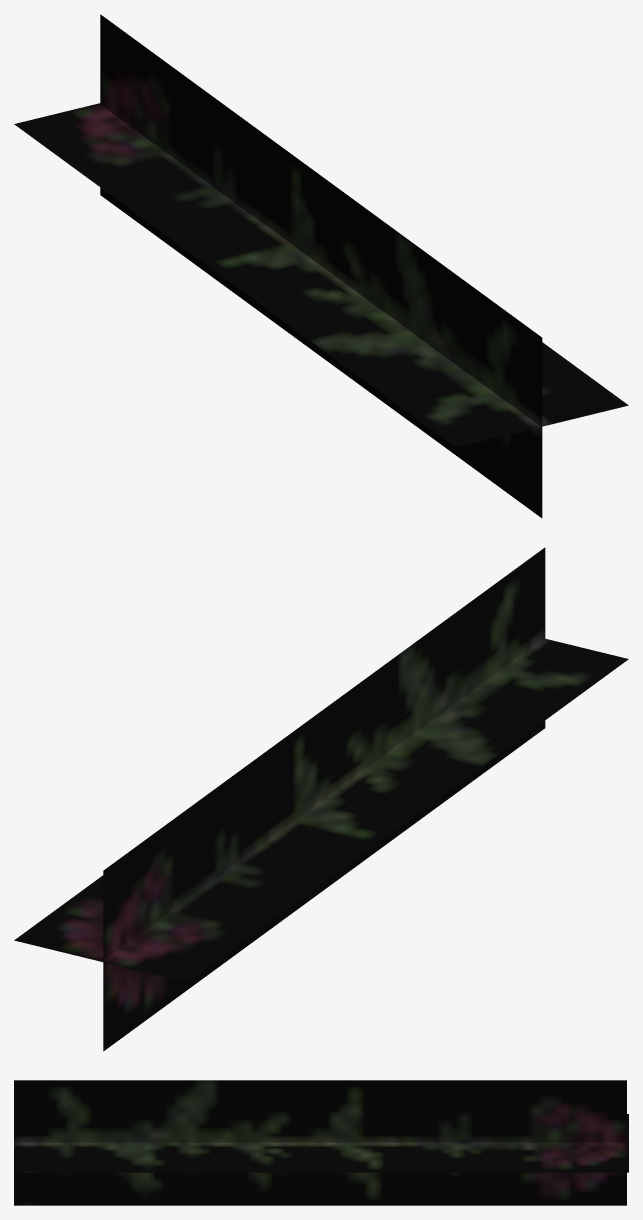
Rendered from SM_EC_Plant_Card_Cross_04.fbx.
3 renders of one model, top to bottom at view 1: azimuth 30°, elevation 25°; view 2: azimuth 150°, elevation 25°; view 3: azimuth 270°, elevation 25°, orthographic. The views are drawn at different scales.
Visible parts, largest first — view 1: SM_EC_Plant_Card_Cross_04; view 2: SM_EC_Plant_Card_Cross_04; view 3: SM_EC_Plant_Card_Cross_04.
Boxes of the visible parts, x1=… form: SM_EC_Plant_Card_Cross_04: x1=14, y1=14, x2=628, y2=518; SM_EC_Plant_Card_Cross_04: x1=14, y1=547, x2=628, y2=1051; SM_EC_Plant_Card_Cross_04: x1=14, y1=1080, x2=628, y2=1205.
Size of the model in its own units: 0.2385 by 1.06 by 0.2385.
